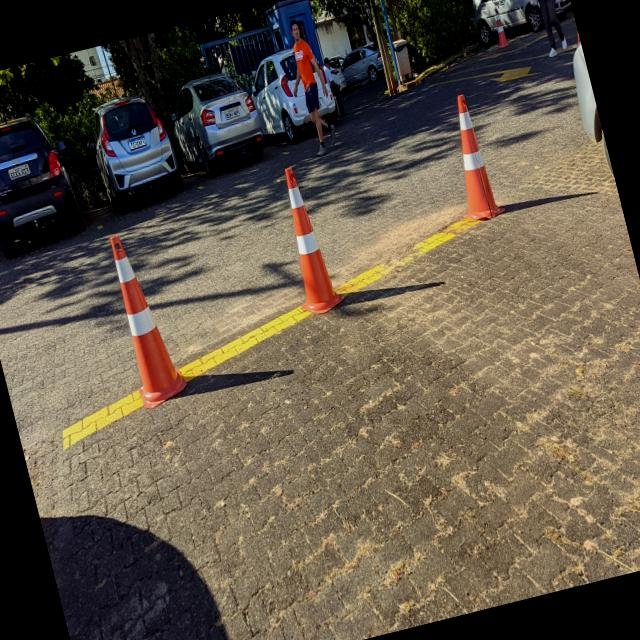cone: (99, 222, 192, 412), (265, 157, 349, 320), (432, 87, 509, 230), (488, 6, 511, 50)
